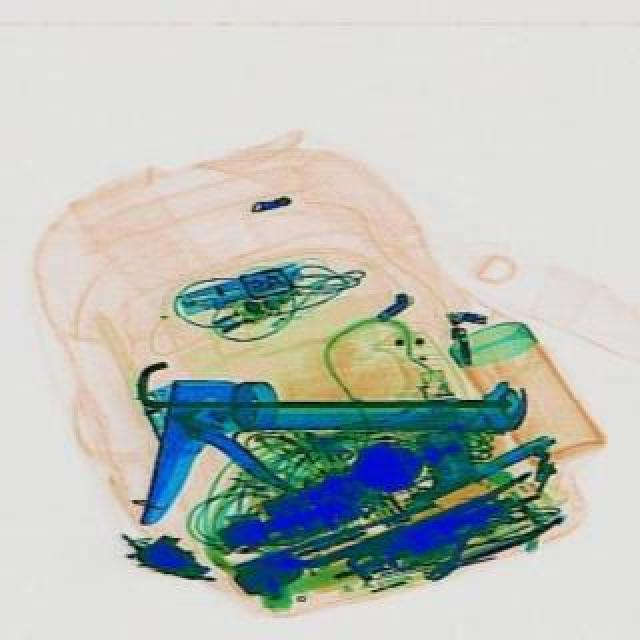wrench: (412, 476, 566, 596)
